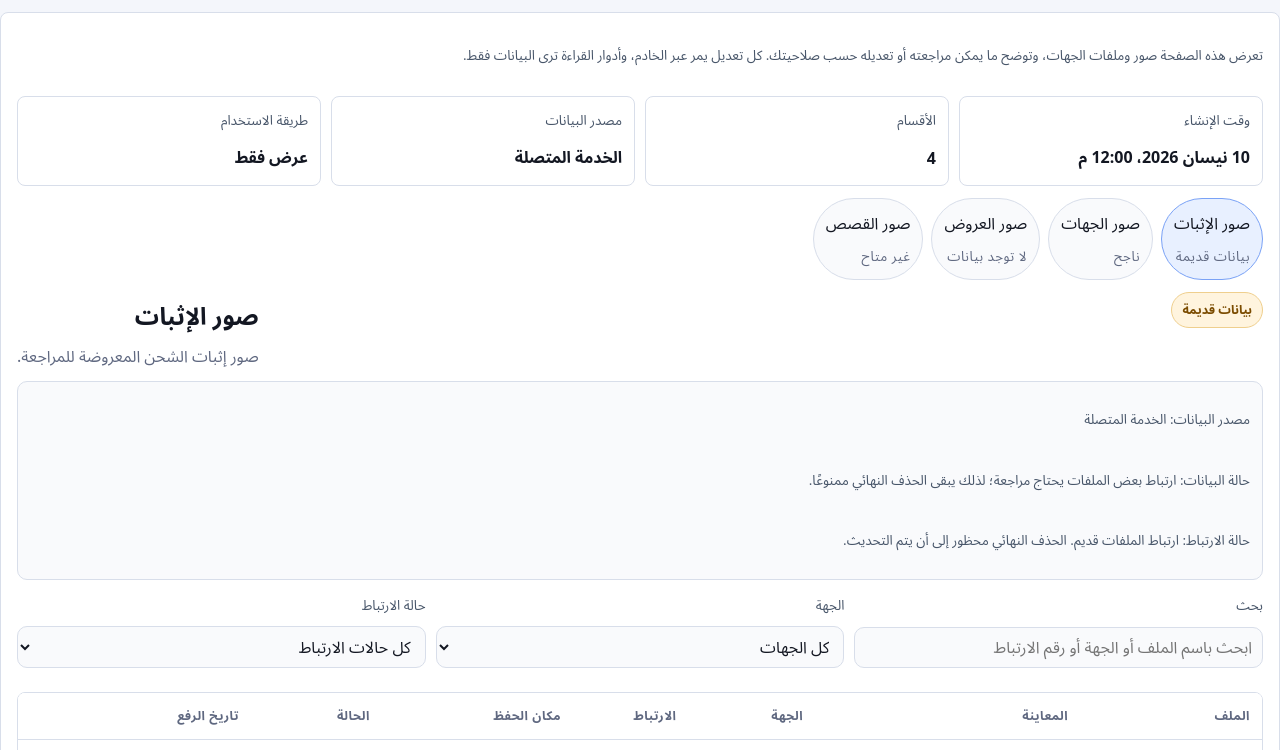
Test: media center shell › renders explicit empty and unavailable section states
The image size is (1280, 750).
Click the tab with test id "media-center-tab-offer_images".
click(986, 239)  # box x1=931 y1=198 x2=1040 y2=280
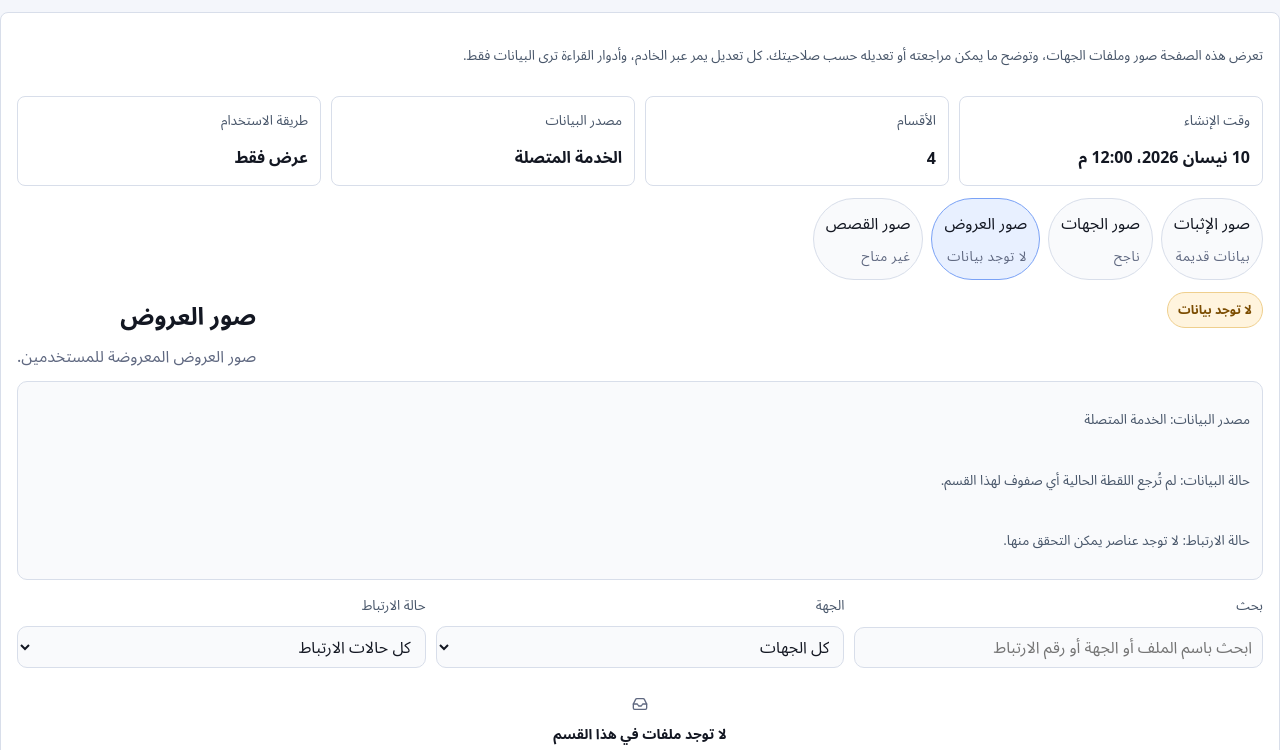
Expected: the element with test id "media-center-empty" reads "لا توجد ملفات في هذا القسم قسم صور العروض فارغ.", x1=553 y1=724 x2=727 y2=743
Click the tab with test id "media-center-tab-story_images".
click(868, 239)  # box x1=813 y1=198 x2=924 y2=280
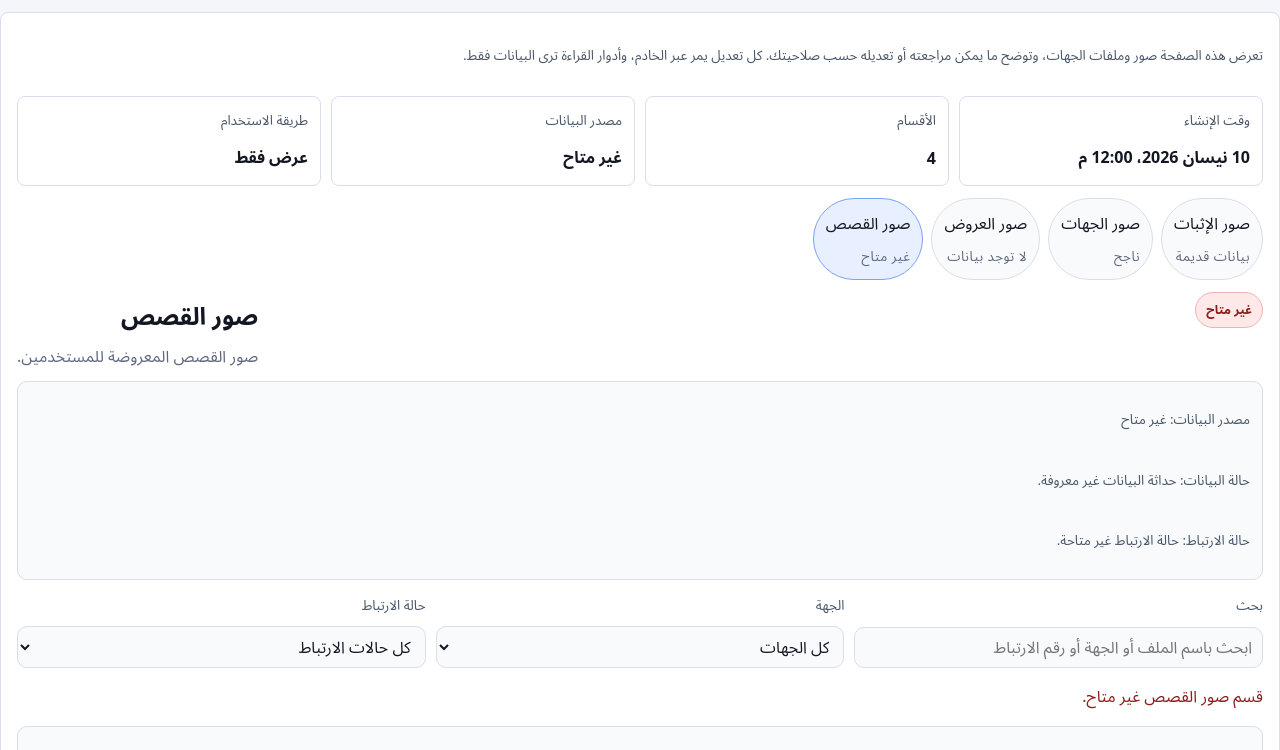
Expected: the message with test id "media-center-unavailable" reads "قسم صور القصص غير متاح.", x1=1082 y1=685 x2=1263 y2=707
